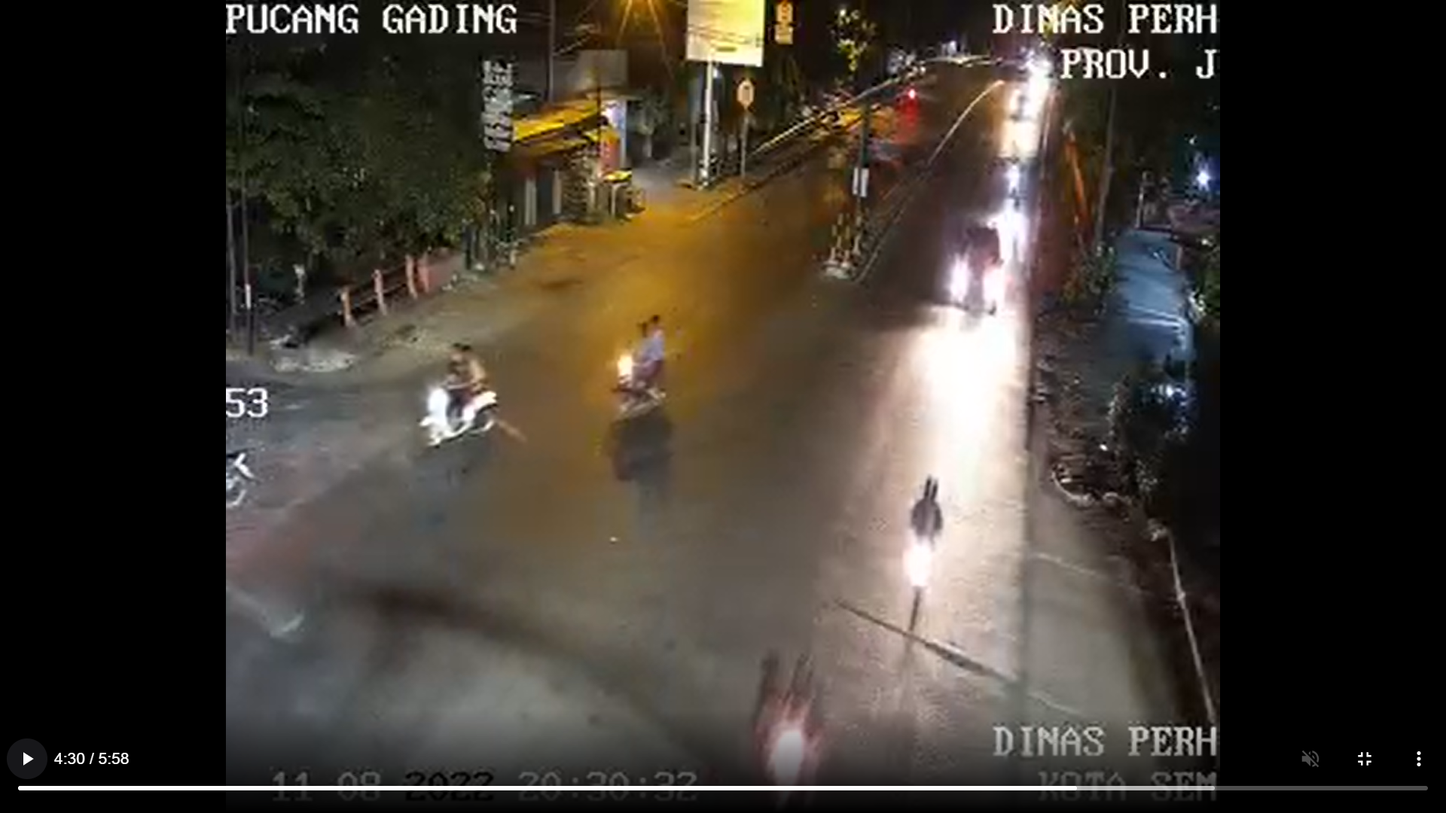without_helmet: (390, 333, 510, 472), (593, 301, 695, 446)
